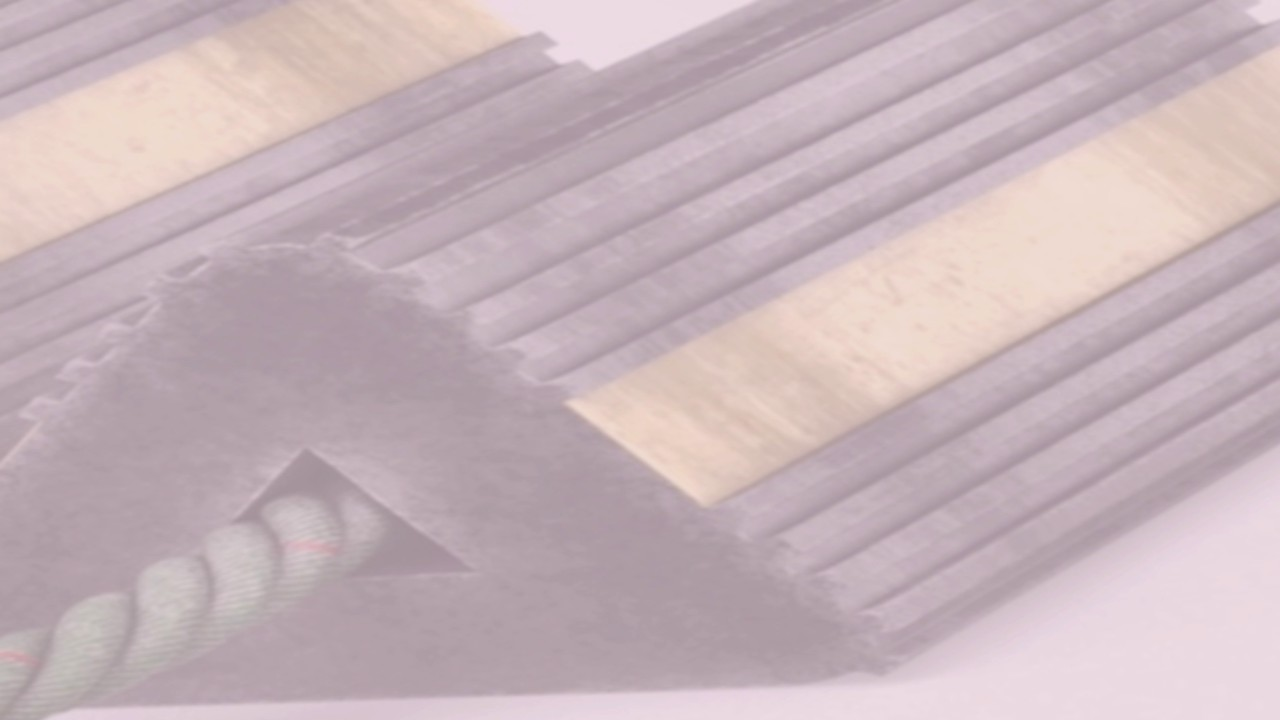chock: (0, 0, 1280, 720), (0, 0, 668, 619)
